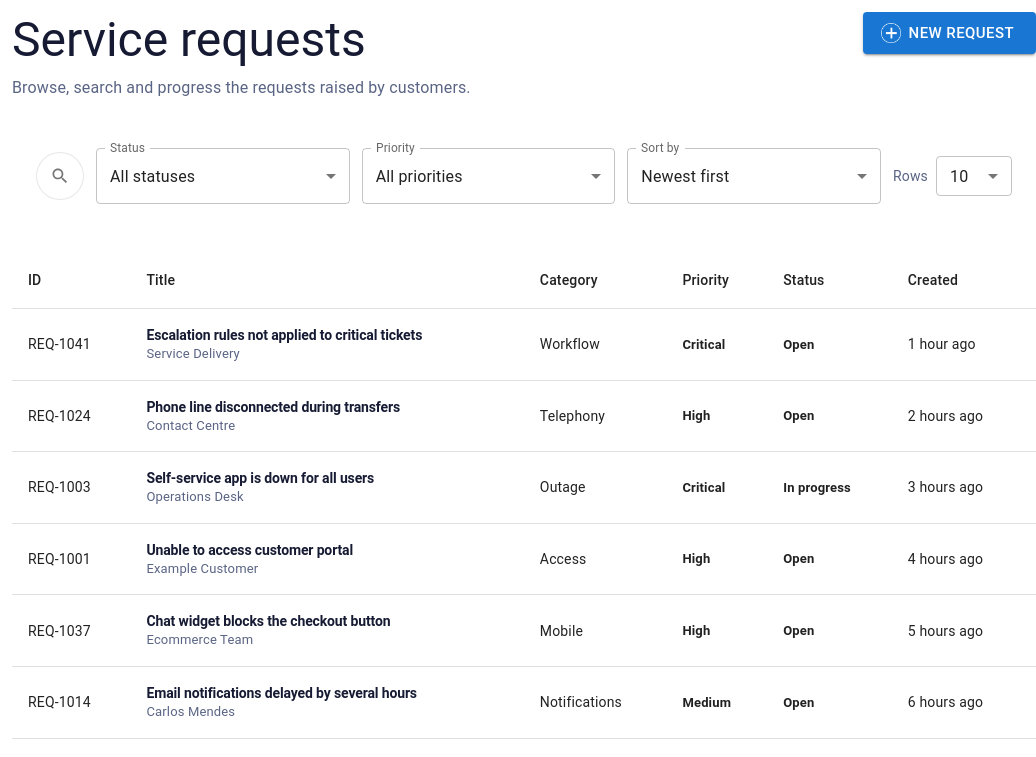
Test: RequestListPage › searches by requester name as well as title
expect the text "REQ-1001" is shown: met, box [12,523,130,595]
Click the button named "Search requests".
click(60, 176)  # box [36,152,84,200]
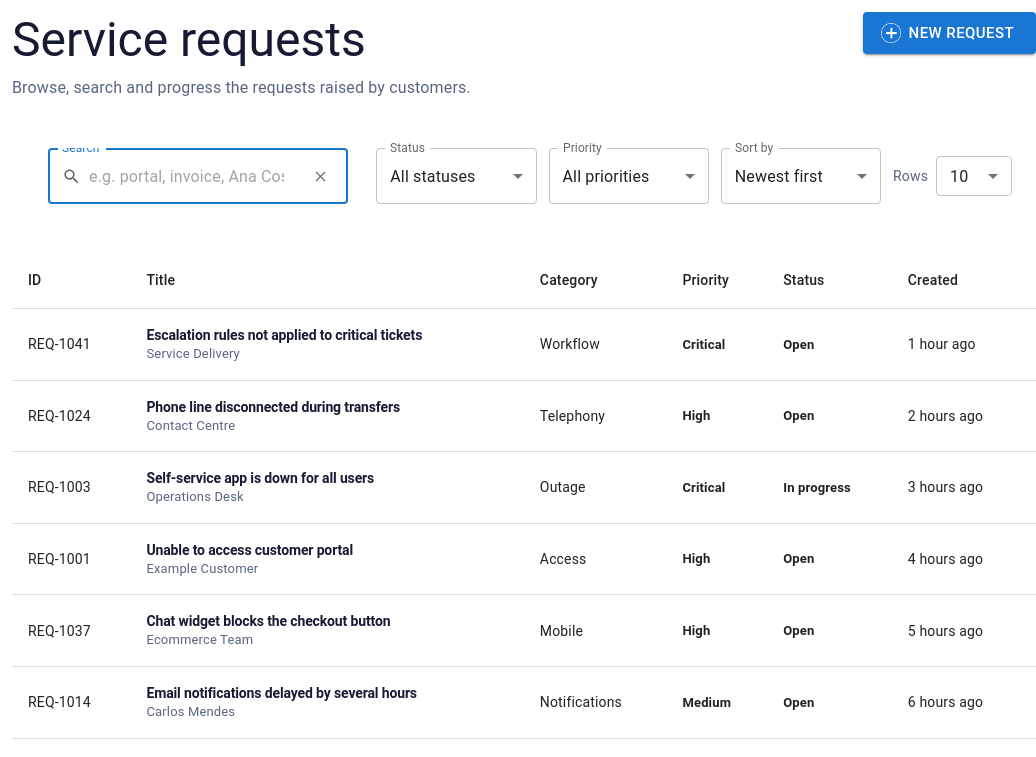
Type "Ana Costa" into the search field labelled "Search".
click(194, 176); type("Ana Costa")  # box [89,148,299,204]
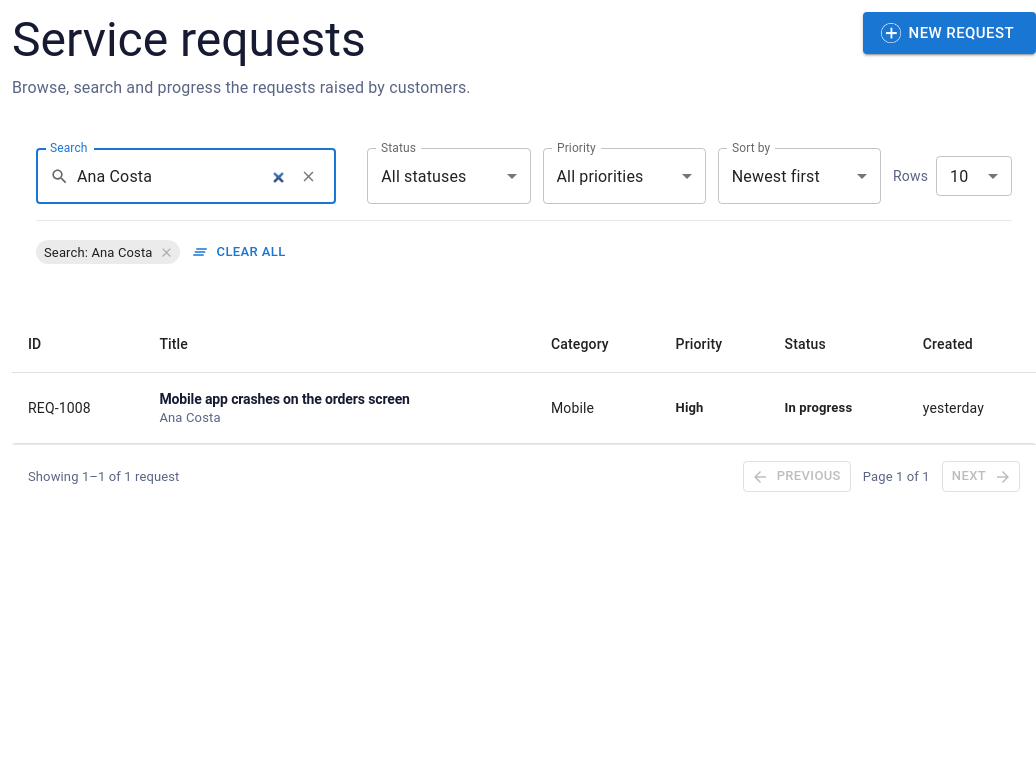
expect the text "Showing 1–1 of 1 request" is shown: met, box [28,467,180,486]
expect the link "Mobile app crashes on the orders screen" is shown: met, box [159,391,410,407]
